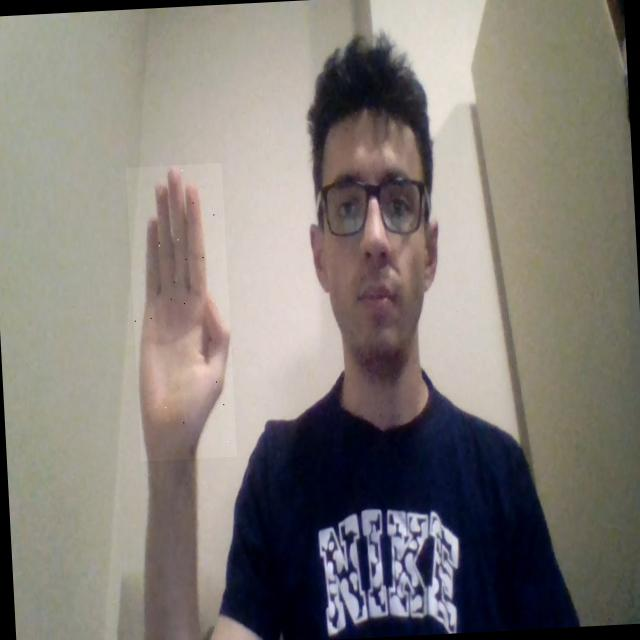hello: (126, 163, 237, 462)
